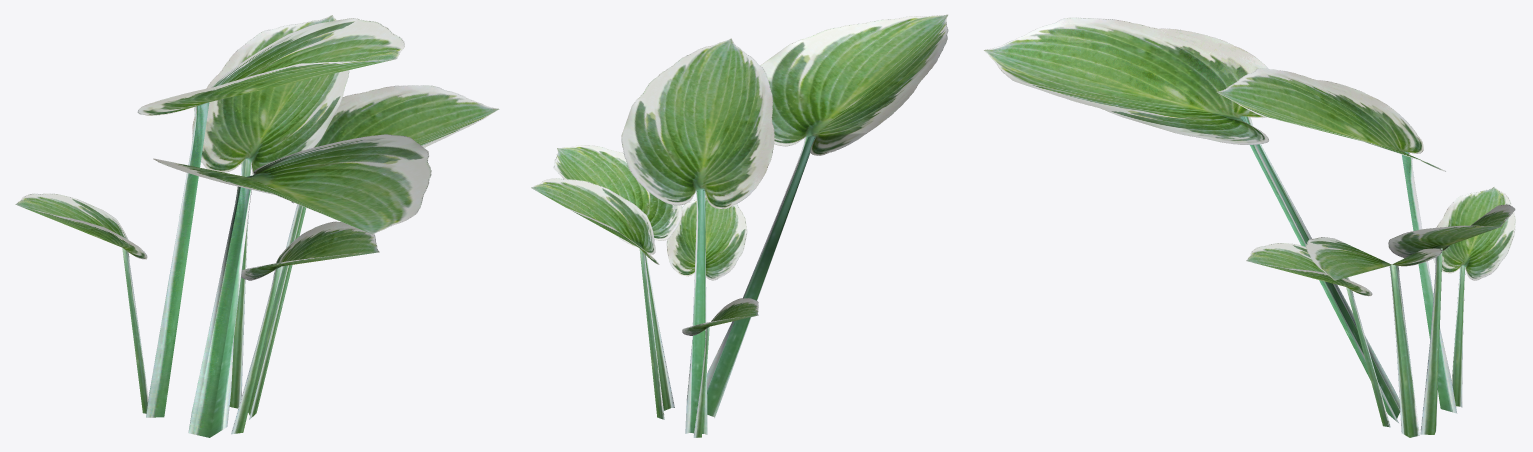
Rendered from plant_small_wg_05AA4.fbx.
3 renders of one model, left to right at view 1: azimuth 30°, elevation 25°; view 2: azimuth 150°, elevation 25°; view 3: azimuth 270°, elevation 25°, orthographic. The views are drawn at different scales.
Visible parts, largest first — view 1: plant_small_wg_05AA4; view 2: plant_small_wg_05AA4; view 3: plant_small_wg_05AA4.
Boxes of the visible parts, bbox=[...] form: plant_small_wg_05AA4: bbox=[15, 15, 499, 437]; plant_small_wg_05AA4: bbox=[531, 14, 948, 437]; plant_small_wg_05AA4: bbox=[984, 17, 1515, 437].
Size of the model in its own units: 39.3 by 39.25 by 53.8.
